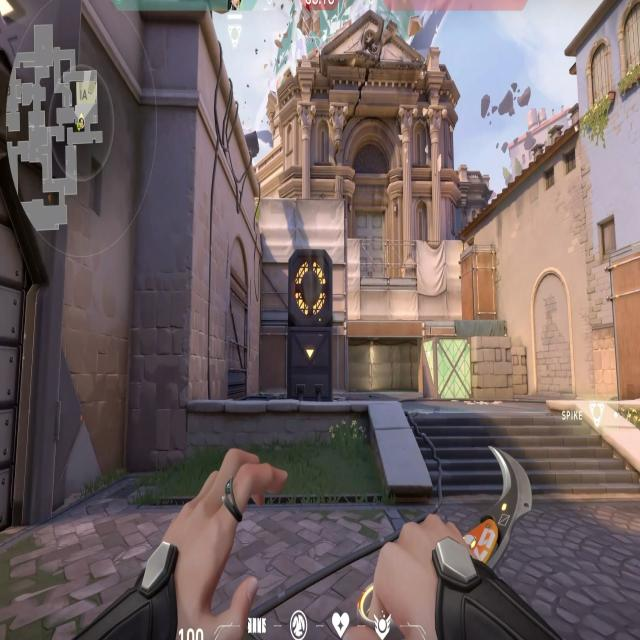A_Heaven_Box: (458, 240, 499, 320)
A_Heaven_Wall: (255, 198, 346, 324)
A_Hell: (343, 318, 428, 399)
A_Site_Box: (422, 338, 514, 403)
